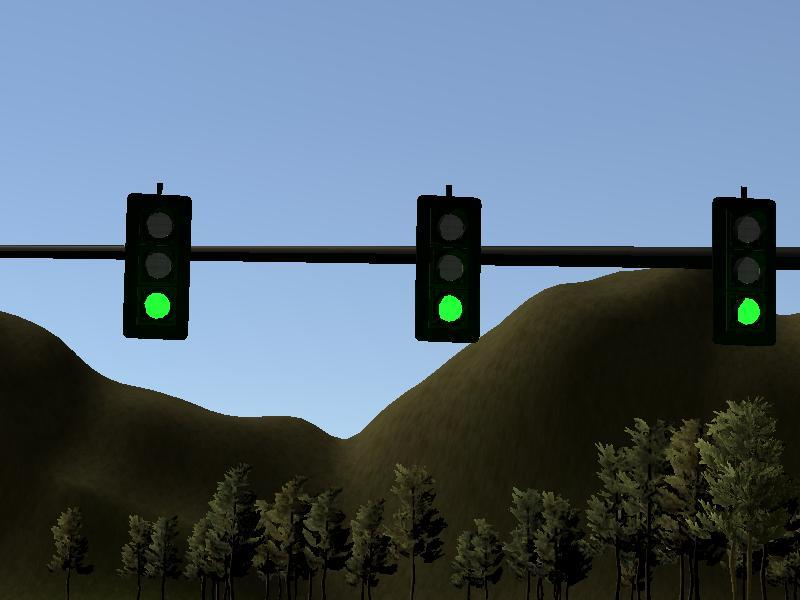Green: (128, 194, 190, 338), (714, 196, 774, 342), (419, 198, 479, 341)
